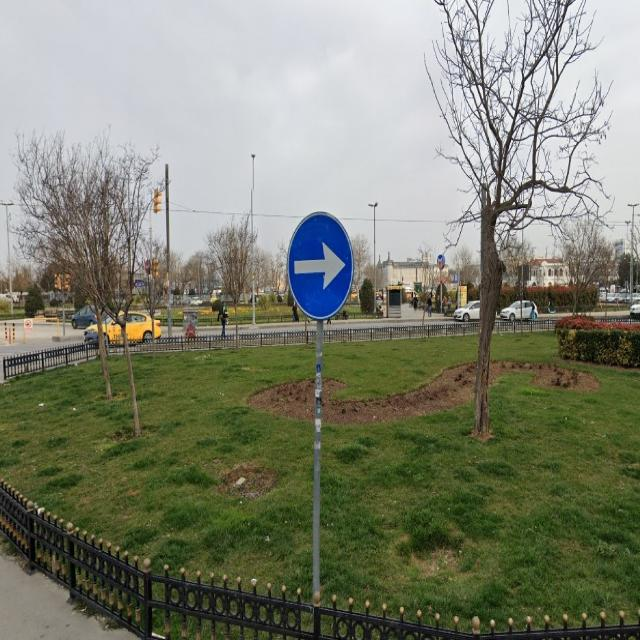Turn Right: (283, 214, 360, 320)
